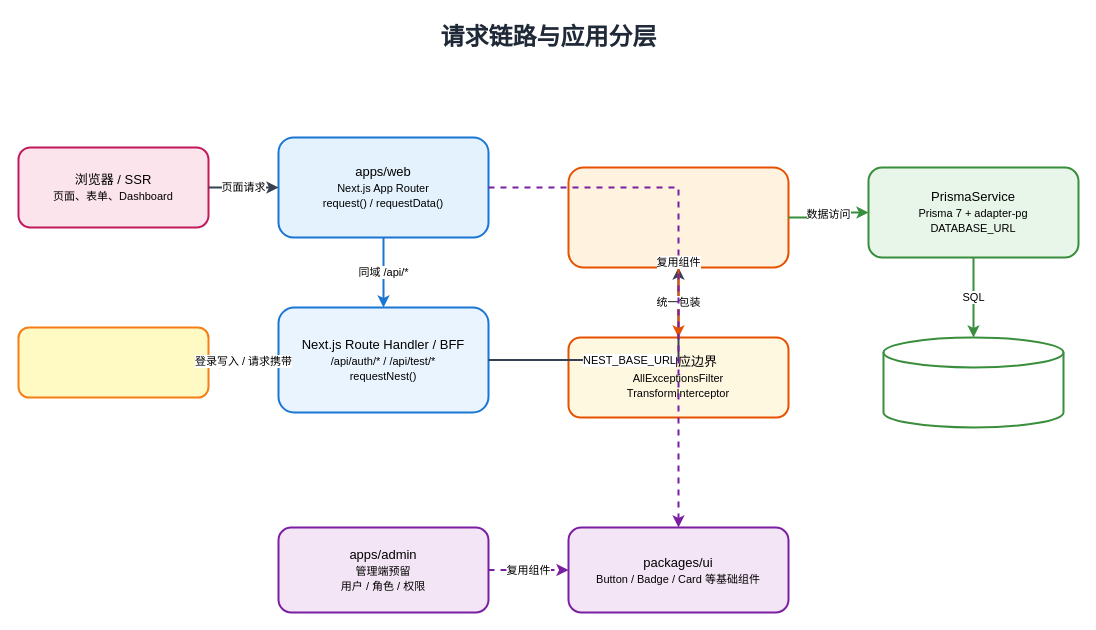
The diagram is 1096 pixels wide and 630 high, and some of its shapes have lost their labels. The centre of each missing label's shape, as x and y in pixels:
apps/server NestJS AppModule AuthModule / TestModule: point (678, 217)
httpOnly Cookie access / refresh token: point (113, 362)
PostgreSQL 单库优先: point (973, 382)
